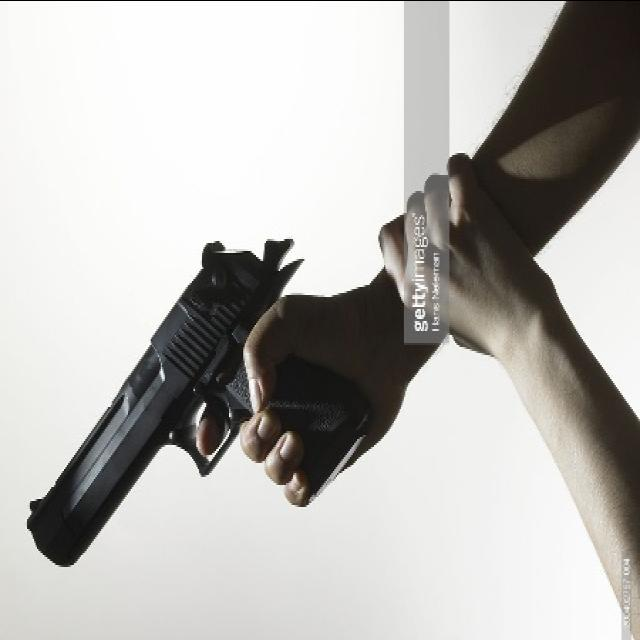handgun: (27, 239, 370, 571)
